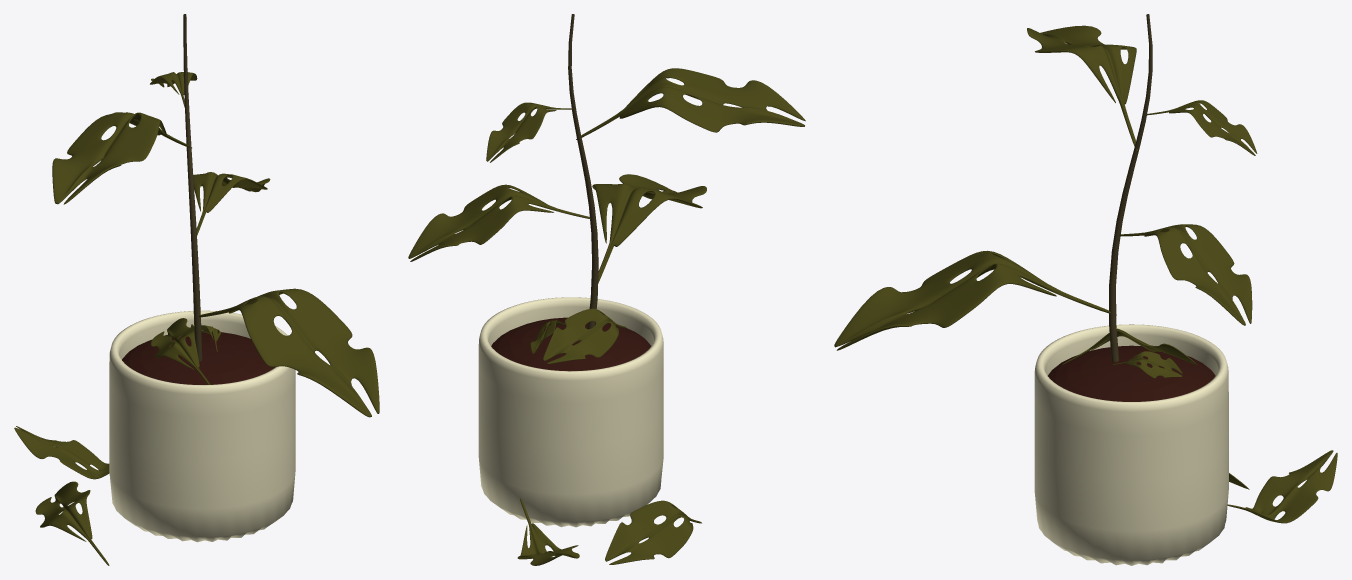
File: plant_abundoned.glb
3 renders of one model, left to right at view 1: azimuth 30°, elevation 25°; view 2: azimuth 150°, elevation 25°; view 3: azimuth 270°, elevation 25°, orthographic. The views are drawn at different scales.
Visible parts, largest first — view 1: pot, Dried Leaf (×4), Sphere, Dried Leaf.002, stem, Dried Leaf.003, Dried Leaf.001; view 2: pot, Dried Leaf (×4), Sphere, Dried Leaf.002, Dried Leaf.001, stem, Dried Leaf.003; view 3: pot, Dried Leaf (×5), Sphere, Dried Leaf.003, stem, Dried Leaf.001.
Boxes of the visible parts, left/top/right/bottom form: pot: left=109, top=310, right=295, bottom=542; Dried Leaf (×4): left=52, top=72, right=379, bottom=417; Sphere: left=122, top=332, right=275, bottom=384; Dried Leaf.002: left=35, top=481, right=109, bottom=565; stem: left=183, top=14, right=202, bottom=361; Dried Leaf.003: left=14, top=426, right=109, bottom=479; Dried Leaf.001: left=150, top=318, right=210, bottom=384; pot: left=478, top=297, right=663, bottom=527; Dried Leaf (×4): left=408, top=68, right=805, bottom=293; Sphere: left=491, top=317, right=651, bottom=371; Dried Leaf.002: left=605, top=500, right=701, bottom=564; Dried Leaf.001: left=543, top=308, right=626, bottom=364; stem: left=568, top=14, right=598, bottom=329; Dried Leaf.003: left=517, top=498, right=579, bottom=565; pot: left=1034, top=324, right=1228, bottom=565; Dried Leaf (×5): left=834, top=25, right=1257, bottom=378; Sphere: left=1048, top=345, right=1215, bottom=401; Dried Leaf.003: left=1227, top=450, right=1337, bottom=523; stem: left=1109, top=14, right=1152, bottom=361; Dried Leaf.001: left=1062, top=328, right=1196, bottom=365.
Bounding box in the file's own units: 3.71 × 5.96 × 5.15.
